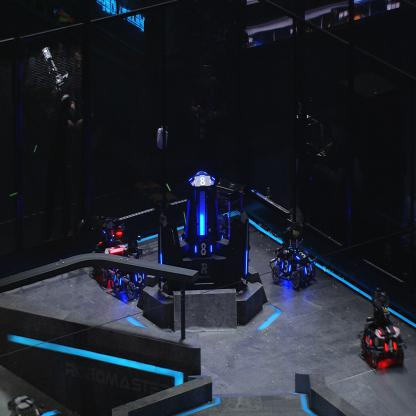car: (358, 288, 406, 370), (268, 222, 316, 289), (110, 229, 152, 297), (93, 215, 130, 284)
